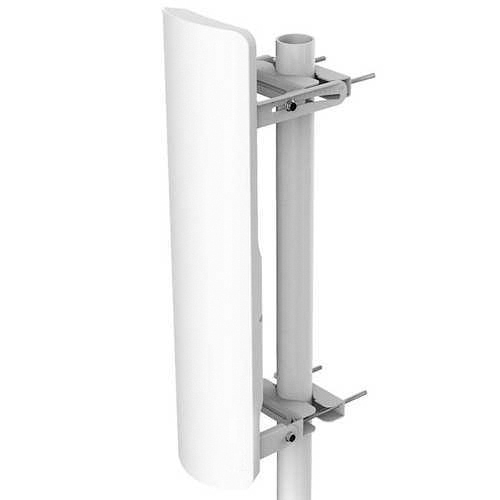sa: (144, 13, 349, 500)
